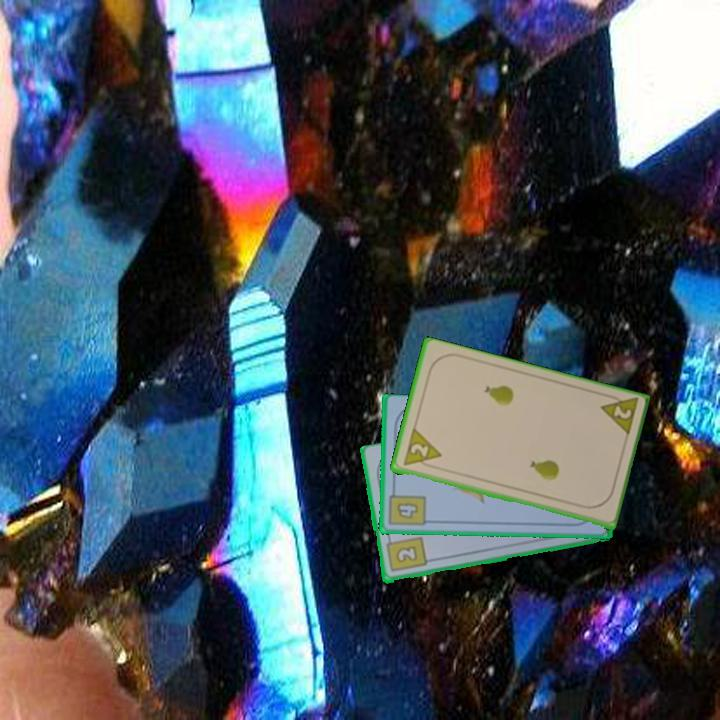2b: (382, 533, 429, 575)
2p: (596, 390, 641, 440), (399, 426, 444, 471)
4b: (386, 485, 428, 529)
